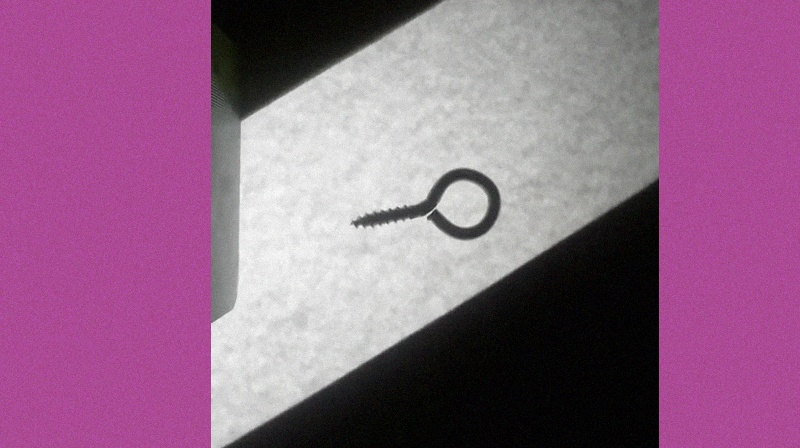O001: (346, 163, 501, 245)
